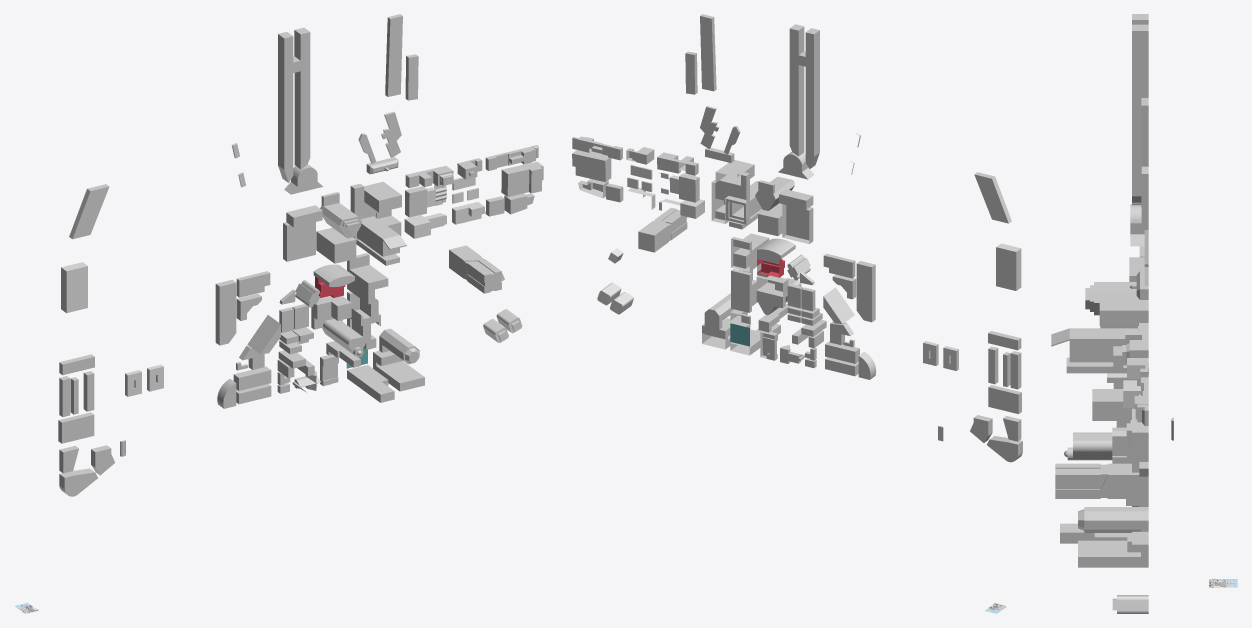
The model's file is auckland.glb.
The picture shows the model from 3 angles, left to right: view 1: azimuth 30°, elevation 25°; view 2: azimuth 150°, elevation 25°; view 3: azimuth 270°, elevation 25°; orthographic projection. The views are drawn at different scales.
Visible parts, largest first — view 1: Geom3D.020, Geom3D.013, Geom3D.017, Geom3D.018, Geom3D.022, Geom3D.024, Geom3D.045, Geom3D_.019, Geom3D.016, Geom3D.042, Geom3D.025, Geom3D_.007 (+4 smaller); view 2: Geom3D.020, Geom3D.013, Geom3D.017, Geom3D.022, Geom3D.024, Geom3D.018, Geom3D.045, Geom3D.023, Geom3D_.019, Geom3D.042, Geom3D.016, Geom3D.025 (+3 smaller); view 3: Geom3D.017, Geom3D.018, Geom3D.020, Geom3D.013, Geom3D.042, Geom3D.045, Geom3D.016, Geom3D.047, Geom3D.048, Geom3D_.016, Geom3D_.019.
Part boxes in pixels (x1,y1,x2,y2): Geom3D.020: (278,14,418,194); Geom3D.013: (279,253,388,357); Geom3D.017: (283,181,406,265); Geom3D.018: (277,328,424,402); Geom3D.022: (58,184,114,475); Geom3D.024: (215,271,271,408); Geom3D.045: (405,161,543,217); Geom3D_.019: (404,177,484,238); Geom3D.016: (316,203,361,263); Geom3D.042: (449,245,501,293); Geom3D.025: (236,315,280,370); Geom3D_.007: (61,262,87,313); Geom3D.020: (685,14,819,179); Geom3D.013: (731,233,822,325); Geom3D.017: (711,160,813,244); Geom3D.022: (970,172,1021,442); Geom3D.024: (823,253,876,379); Geom3D.018: (702,293,816,367); Geom3D.045: (572,150,699,202); Geom3D.023: (987,247,1022,462); Geom3D_.019: (627,164,704,218); Geom3D.042: (638,207,687,252); Geom3D.016: (755,176,794,235); Geom3D.025: (823,287,854,347); Geom3D.017: (1051,257,1148,373); Geom3D.018: (1060,499,1148,567); Geom3D.020: (1130,14,1148,299); Geom3D.013: (1067,373,1136,463); Geom3D.042: (1055,463,1148,498); Geom3D.045: (1126,379,1148,476); Geom3D.016: (1085,282,1137,328); Geom3D.047: (1122,323,1148,371); Geom3D.048: (1126,343,1148,425); Geom3D_.016: (1112,595,1148,613); Geom3D_.019: (1123,363,1148,423).
Size of the model in its own units: 1958 by 2067 by 490.
